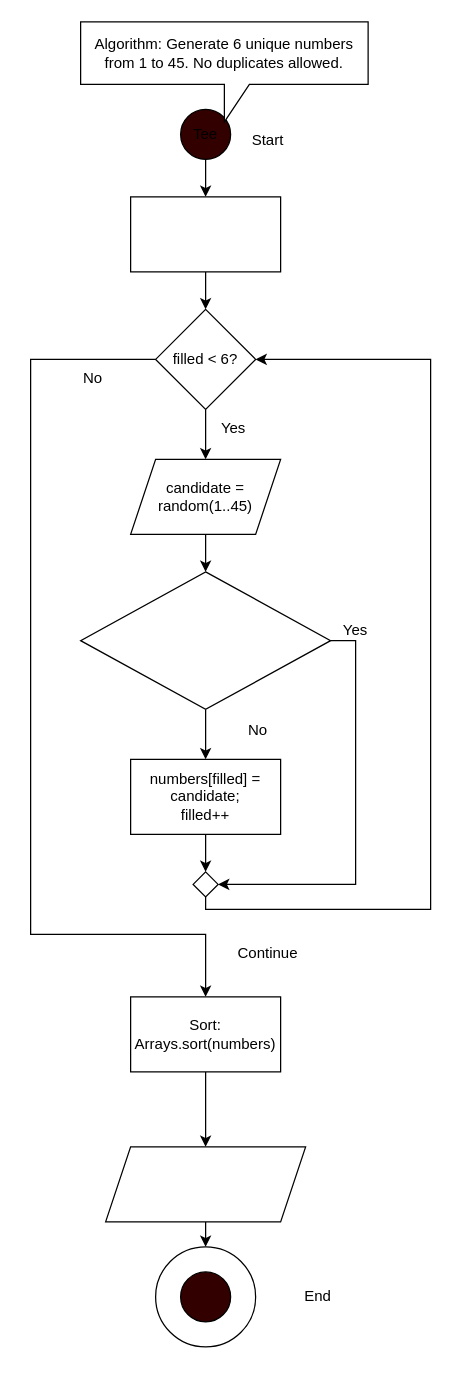
The diagram is 463 pixels wide and 1379 high, and some of its shapes have lost their labels. Each missing label, with the centre of its shape:
does numbers contain candidate?: pixel 205 640
Initialize: int[] numbers = new int[6]; int filled = 0: pixel 205 234
Print: Arrays.toString(numbers): pixel 205 1184
